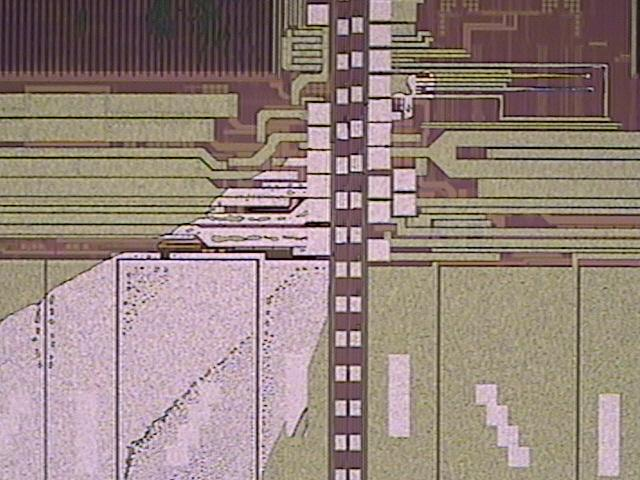COATING BAD: (1, 71, 440, 480)
